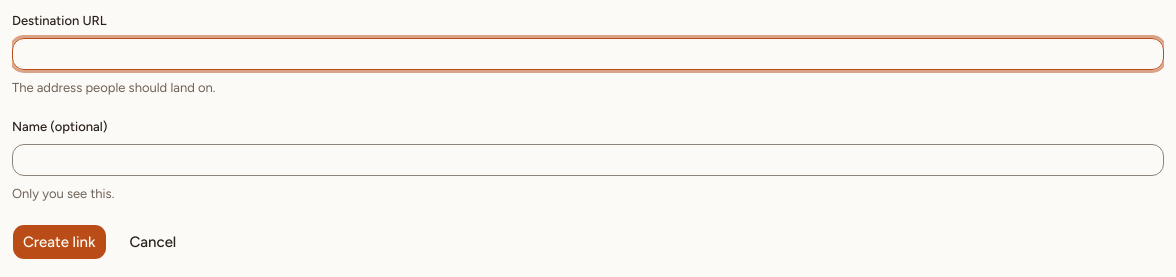
Test case: LinkForm › explains unsupported_scheme beside the destination field
In the field labelled "Destination URL": (588, 54) [12, 38, 1164, 70], type "https://example.com/a"
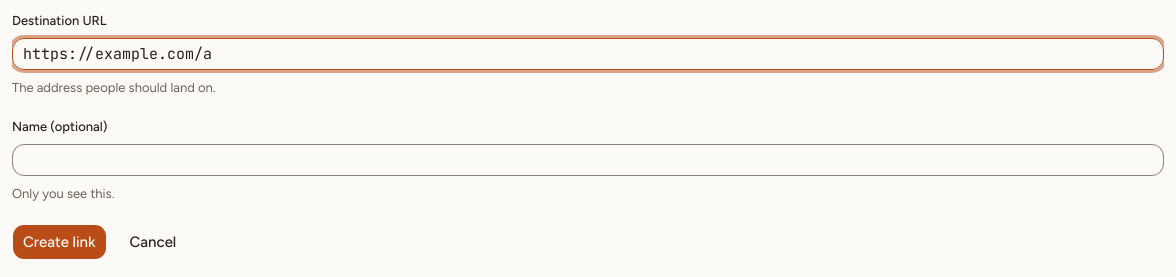
Click the button "Create link": (59, 242) [12, 224, 106, 260]
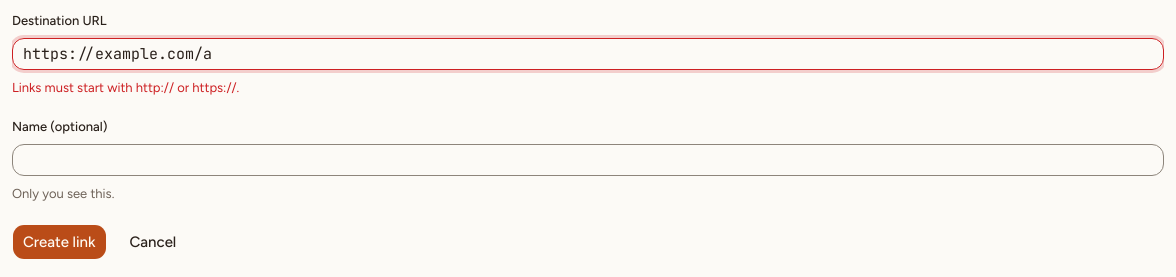
Result: the text "Links must start with http:// or https://." is shown at [12, 80, 239, 95]
